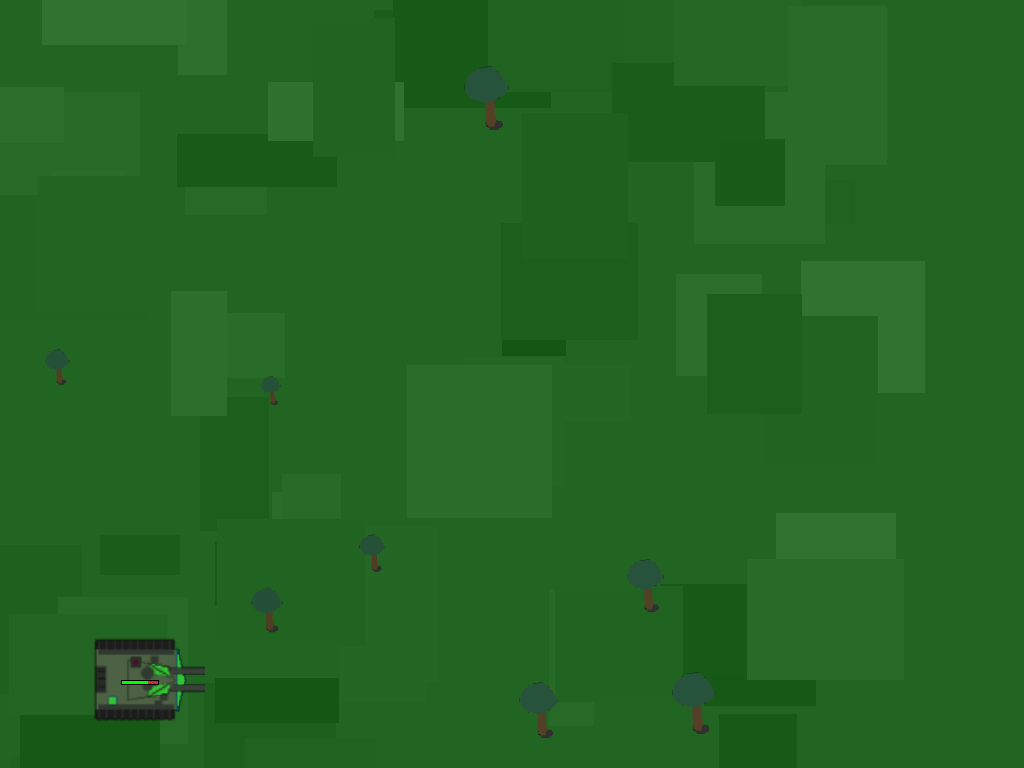Type99: (98, 637, 182, 721)
